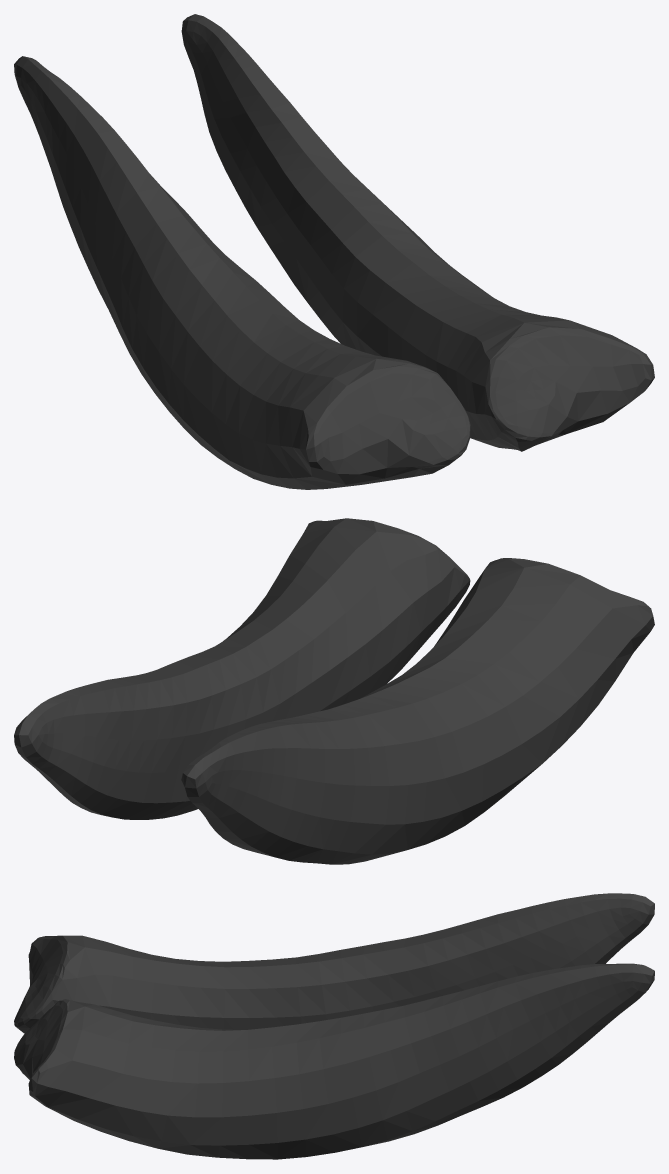
The model's file is L_mand_I1_LO.glb.
The picture shows the model from 3 angles, top to bottom: view 1: azimuth 30°, elevation 25°; view 2: azimuth 150°, elevation 25°; view 3: azimuth 270°, elevation 25°; orthographic projection. The views are drawn at different scales.
Parts seen in each view (by area): view 1: L_mand_I1_LO; view 2: L_mand_I1_LO; view 3: L_mand_I1_LO.
Part boxes in pixels (bbox=[...]): L_mand_I1_LO: bbox=[14, 14, 654, 489]; L_mand_I1_LO: bbox=[14, 518, 654, 864]; L_mand_I1_LO: bbox=[14, 893, 654, 1159].
Size of the model in its own units: 0.000269 by 0.000167 by 0.000525.
Materials: 1 (1 with a texture image).
